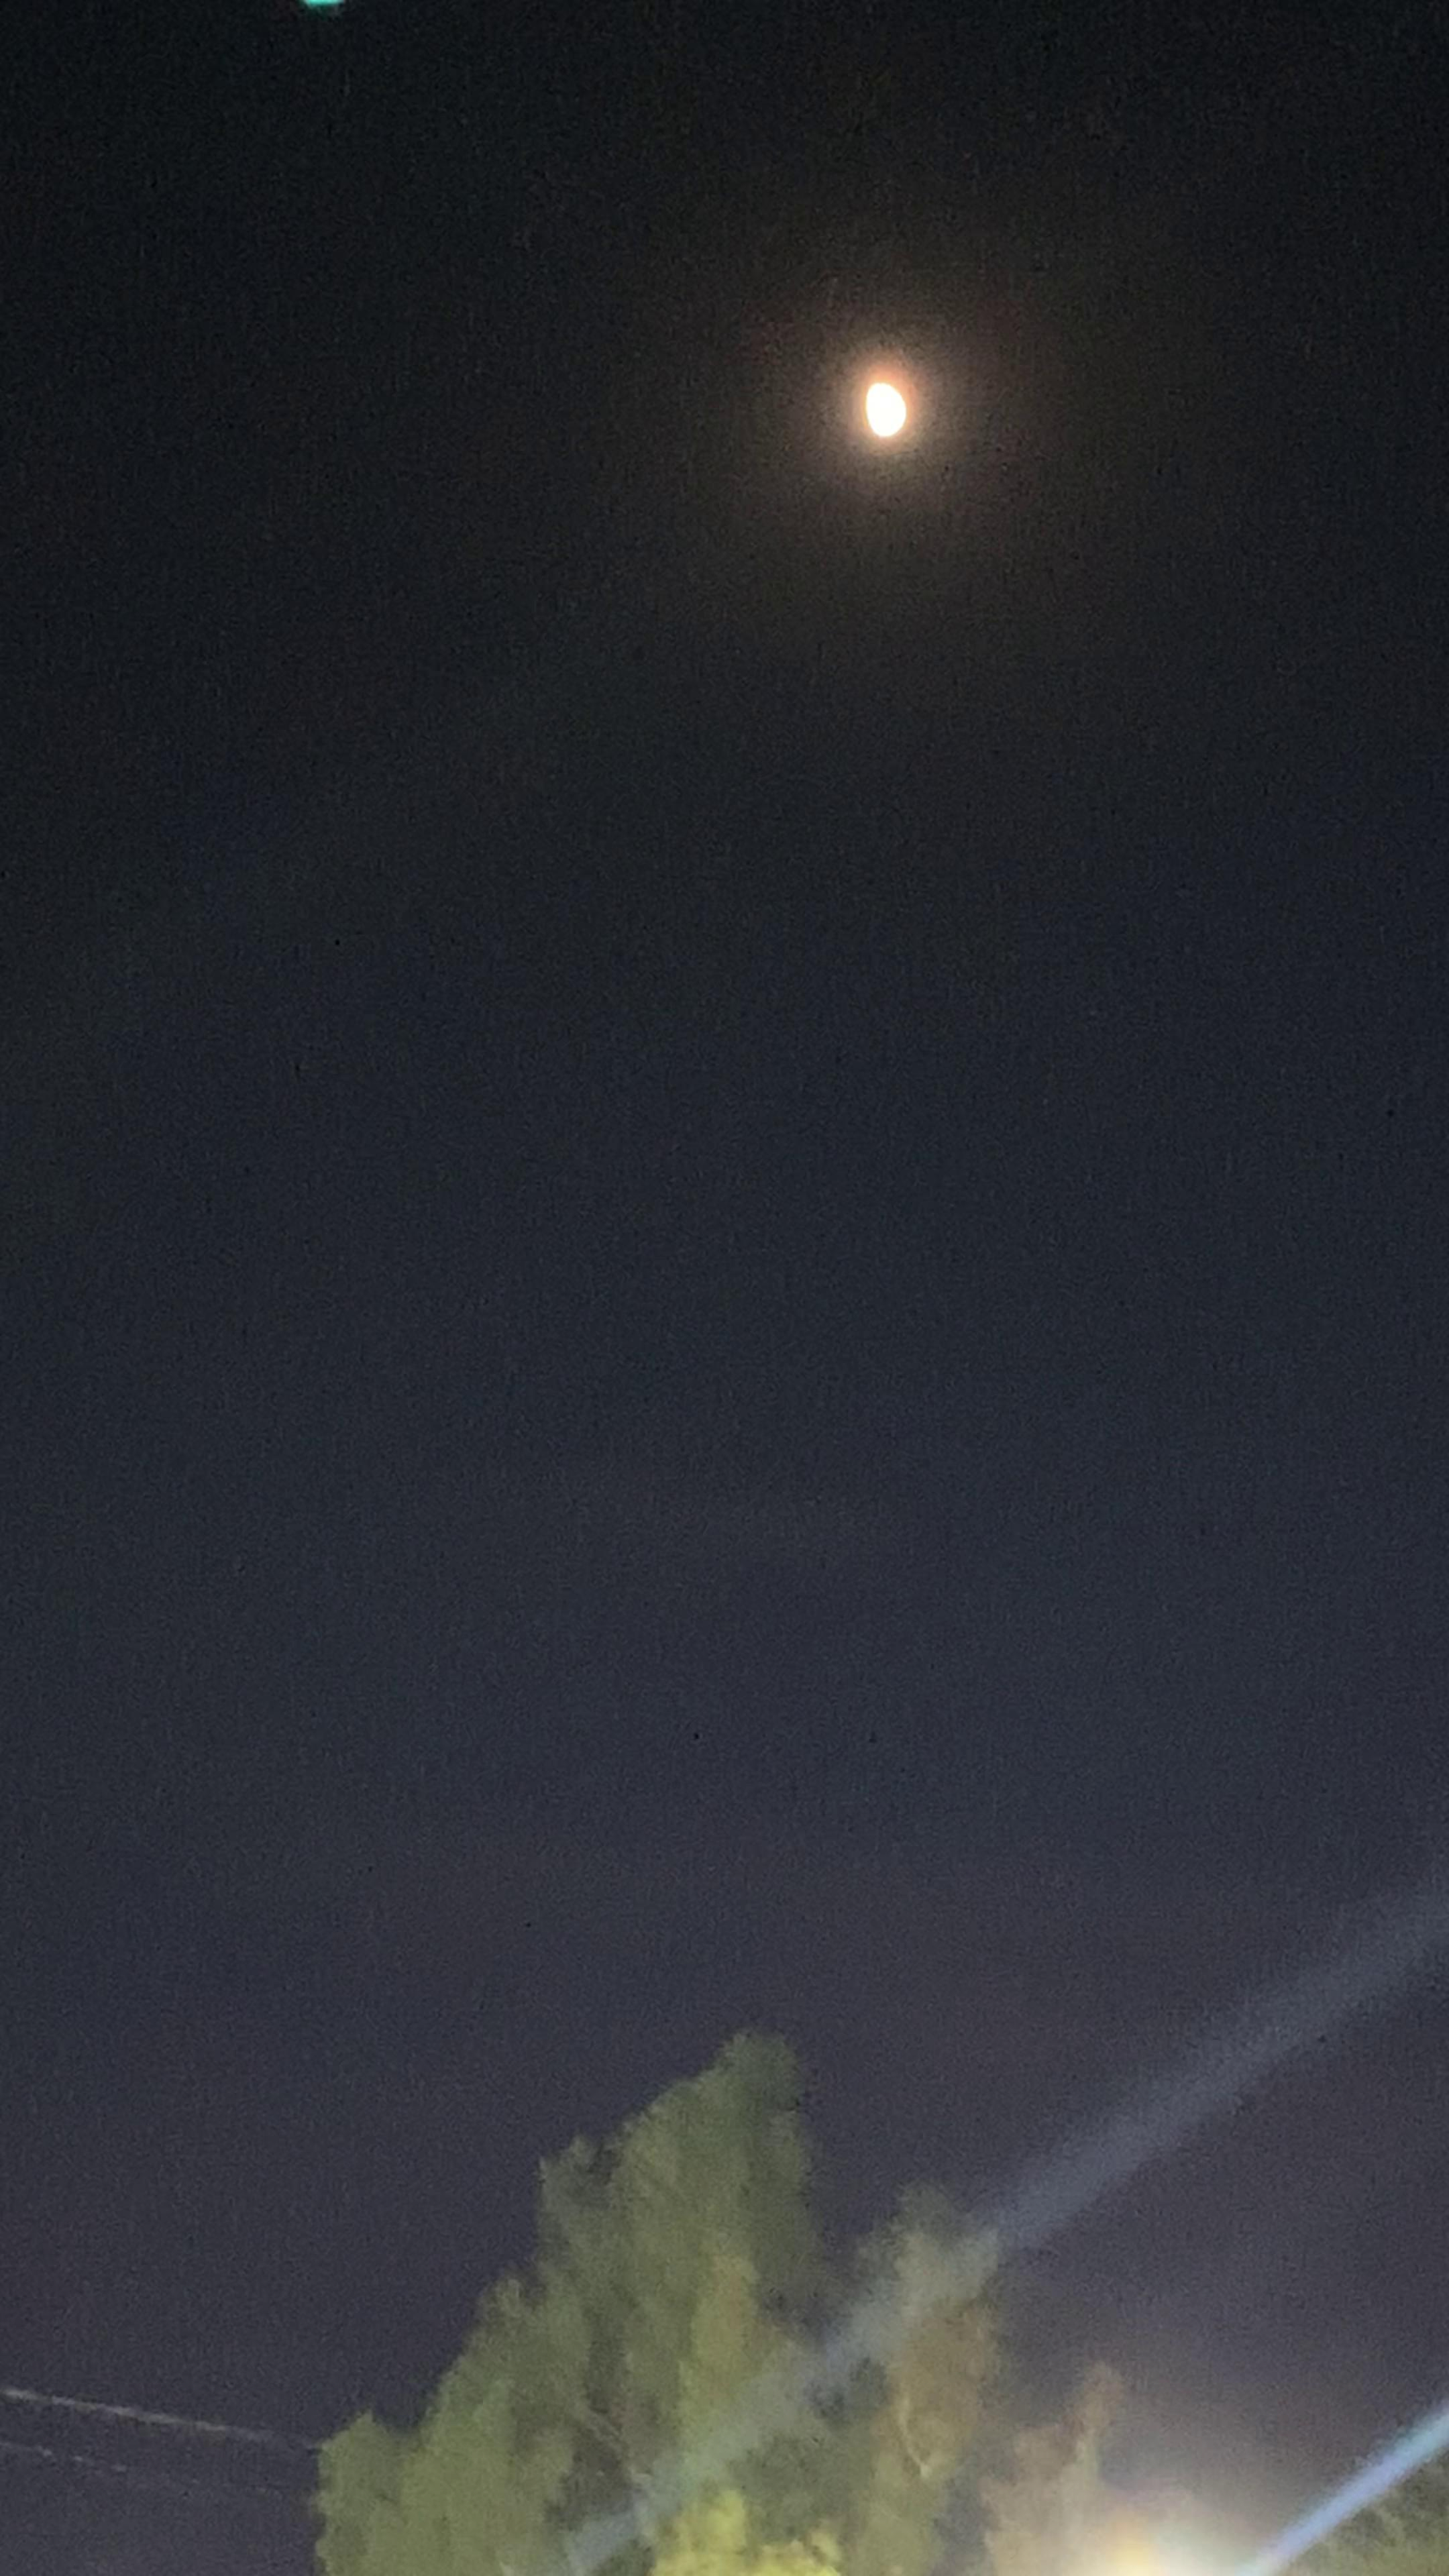moon: (819, 350, 936, 479)
